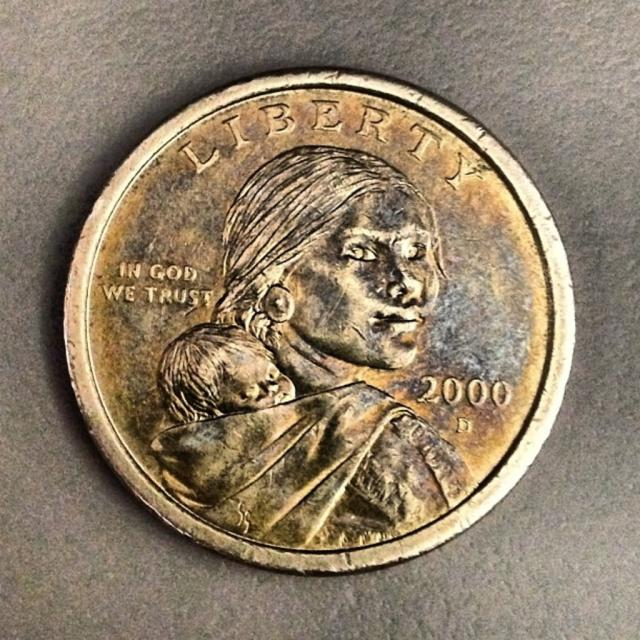Coin: (55, 64, 576, 571)
